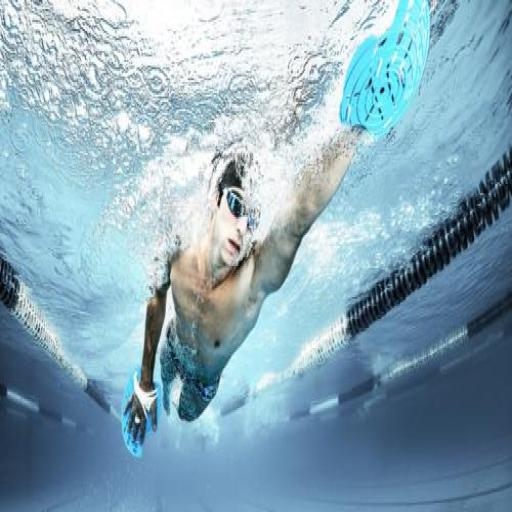swimming: (120, 115, 374, 457)
